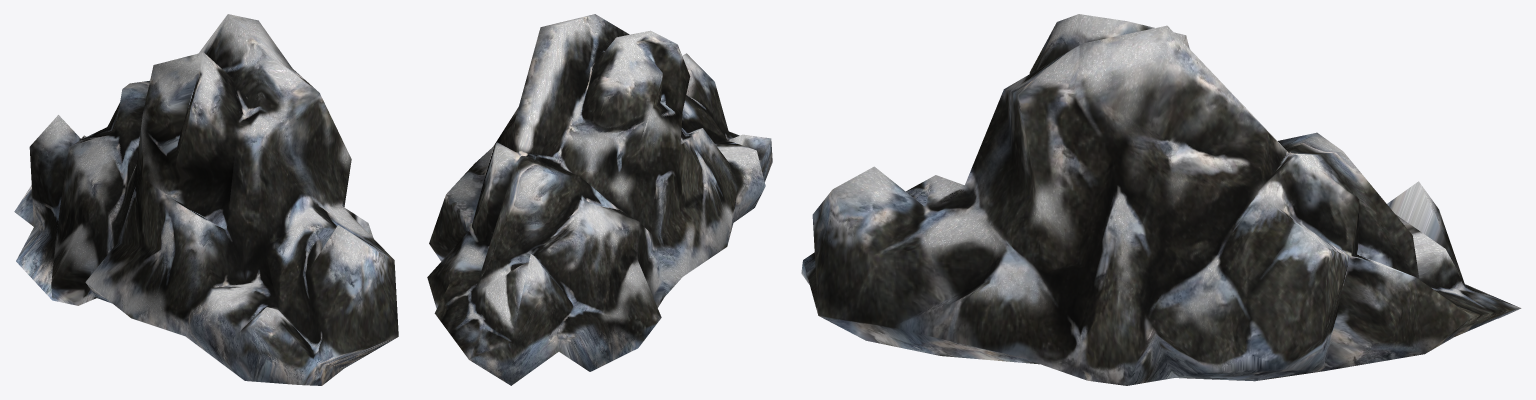
File: Rock_big.FBX
The picture shows the model from 3 angles, left to right: view 1: azimuth 30°, elevation 25°; view 2: azimuth 150°, elevation 25°; view 3: azimuth 270°, elevation 25°; orthographic projection. The views are drawn at different scales.
Visible parts, largest first — view 1: Rock_02; view 2: Rock_02; view 3: Rock_02.
Boxes of the visible parts, x1,y1,x2,y2 form: Rock_02: [14, 14, 398, 385]; Rock_02: [427, 14, 772, 385]; Rock_02: [801, 14, 1521, 385].
Bounding box in the file's own units: 3 × 3.34 × 6.18.
Materials: 1 (1 with a texture image).
